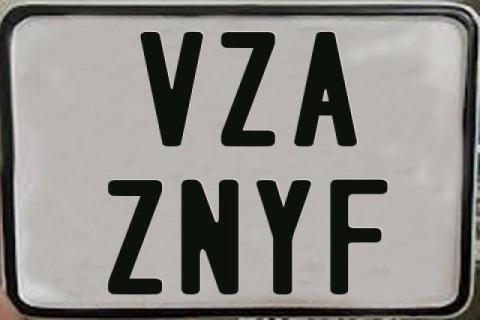A: (293, 32, 359, 147)
F: (330, 177, 393, 293)
N: (180, 178, 238, 296)
V: (140, 29, 208, 149)
Y: (254, 178, 314, 296)
Z: (107, 179, 166, 295), (219, 31, 274, 148)
